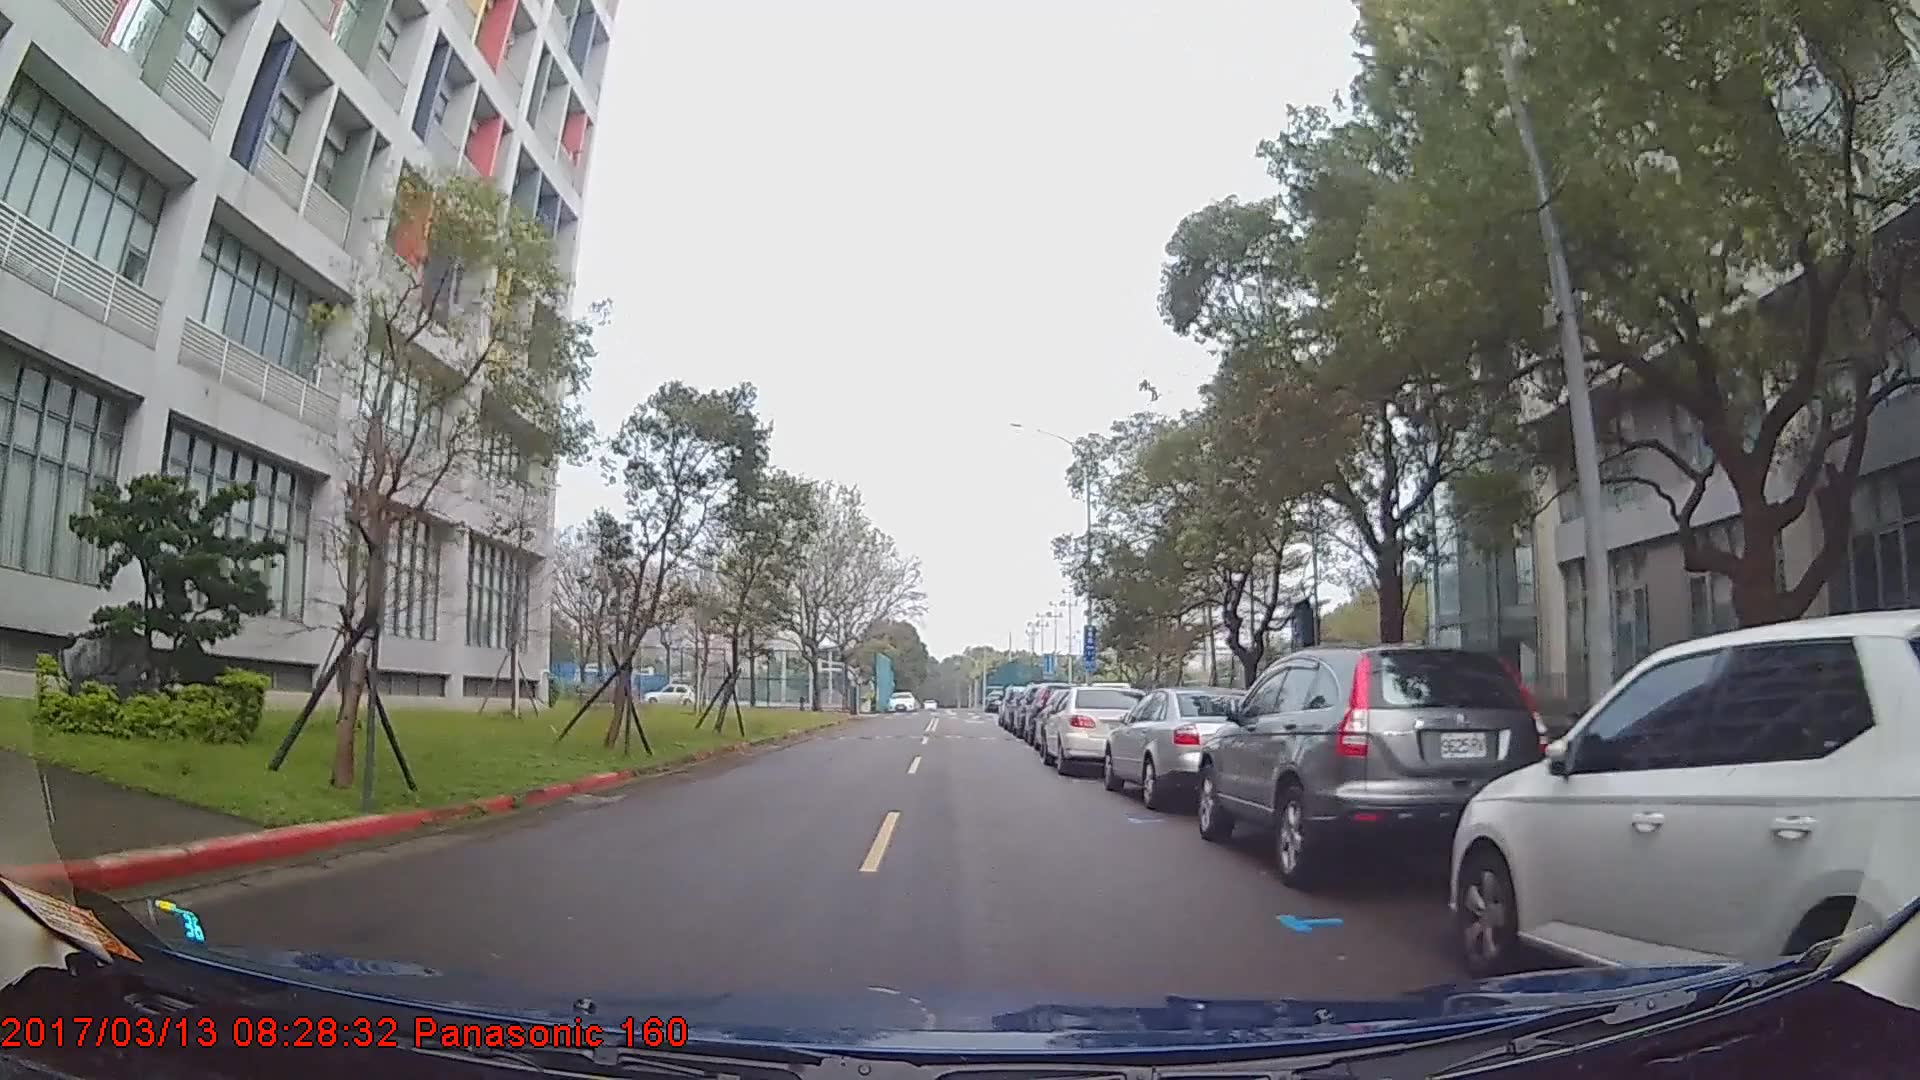vehicle: (1448, 605, 1920, 1009), (1197, 640, 1553, 886), (1100, 683, 1261, 808), (1040, 680, 1155, 775), (644, 678, 698, 705)
